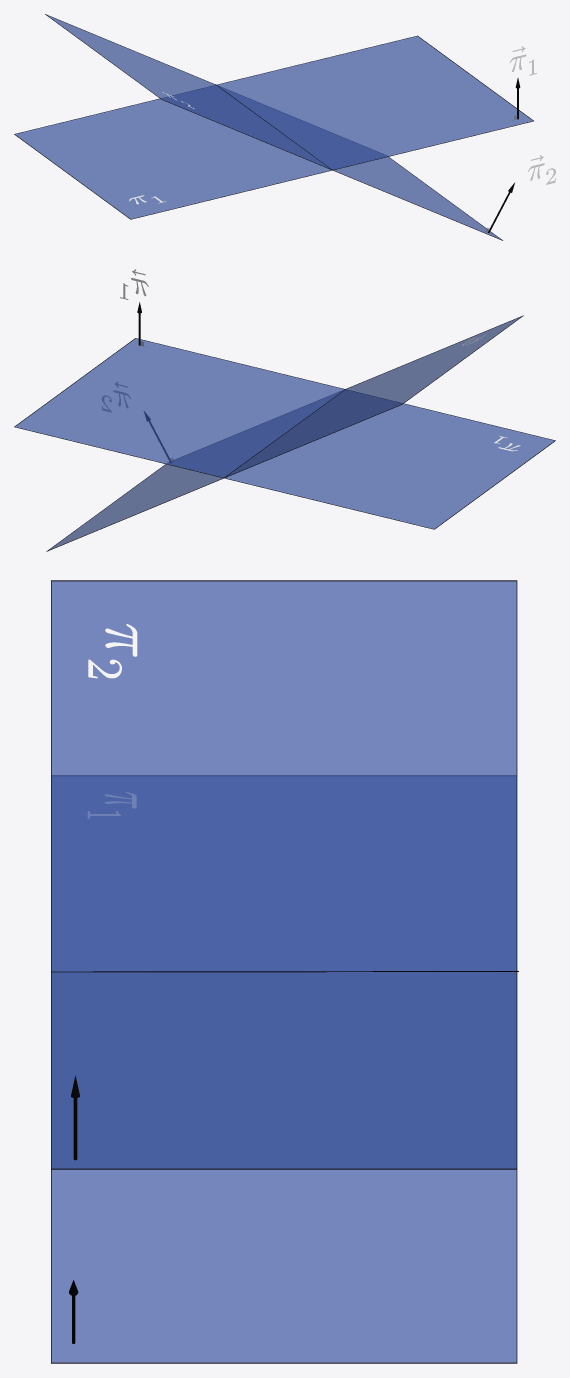
Rendered from pi_secante_pi.glb.
The picture shows the model from 3 angles, top to bottom: view 1: azimuth 30°, elevation 25°; view 2: azimuth 150°, elevation 25°; view 3: azimuth 270°, elevation 25°; orthographic projection. The views are drawn at different scales.
Visible parts, largest first — view 1: Plano, Plano.001; view 2: Plano, Plano.001; view 3: Plano.001, Plano.
Boxes of the visible parts, box(x1,y1,x2,y2) form: Plano: box(14, 35, 533, 219); Plano.001: box(45, 14, 502, 240); Plano: box(14, 338, 555, 529); Plano.001: box(46, 315, 523, 551); Plano.001: box(51, 580, 517, 1363); Plano: box(51, 775, 517, 1169).
Bounding box in the file's own units: 4.27 × 2.13 × 2.01.
